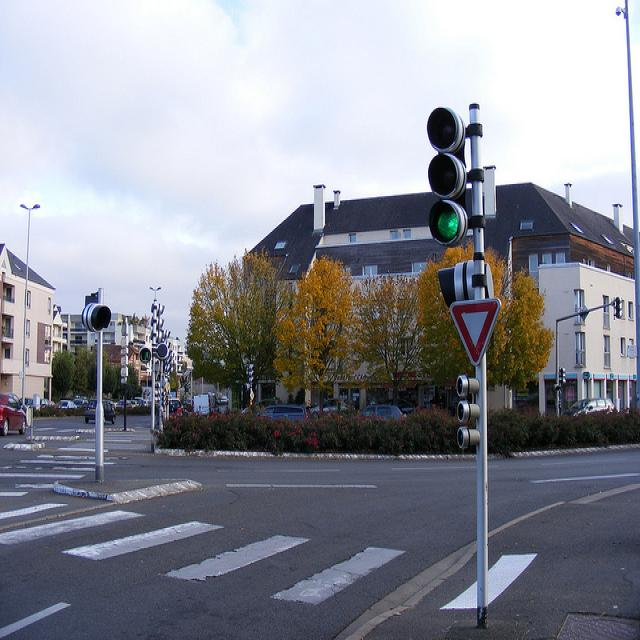Vehicle: (13, 383, 421, 428), (0, 394, 27, 436), (562, 397, 619, 416), (308, 399, 357, 420), (257, 405, 308, 423), (85, 398, 117, 424), (359, 404, 403, 420), (54, 400, 78, 409), (73, 398, 88, 408), (116, 400, 132, 409), (130, 400, 139, 415), (220, 394, 228, 406), (24, 397, 34, 406)
